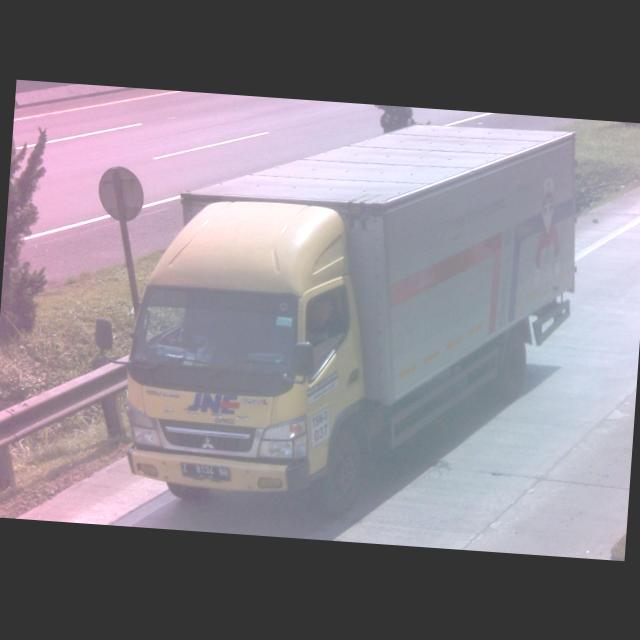plate: (175, 459, 233, 485)
